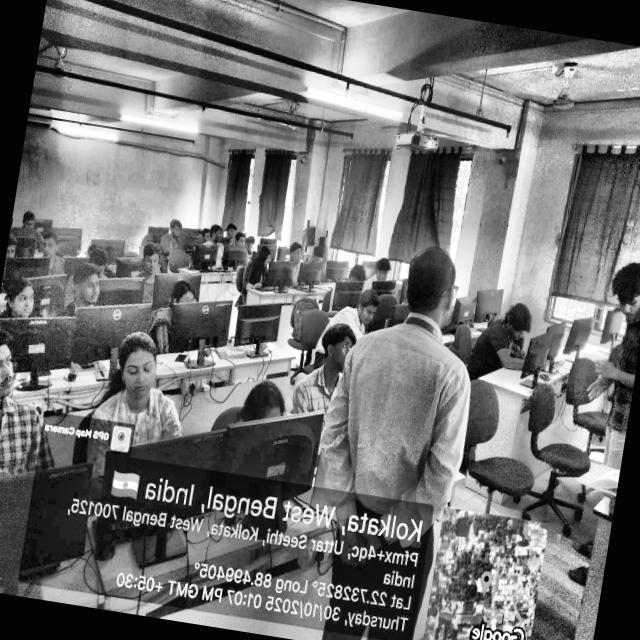Focus: (0, 173, 303, 355), (306, 210, 486, 490), (67, 295, 169, 467), (267, 294, 357, 428), (0, 299, 50, 497), (454, 282, 550, 374)
Not Focus: (501, 239, 640, 498)
